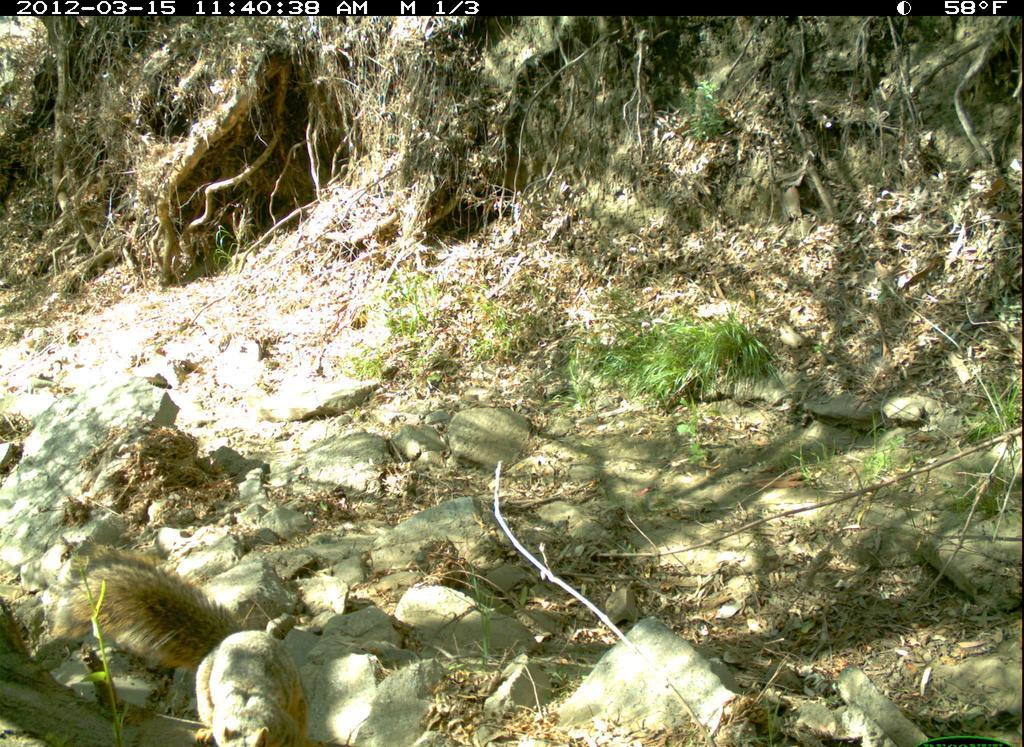squirrel: (72, 533, 313, 747)
